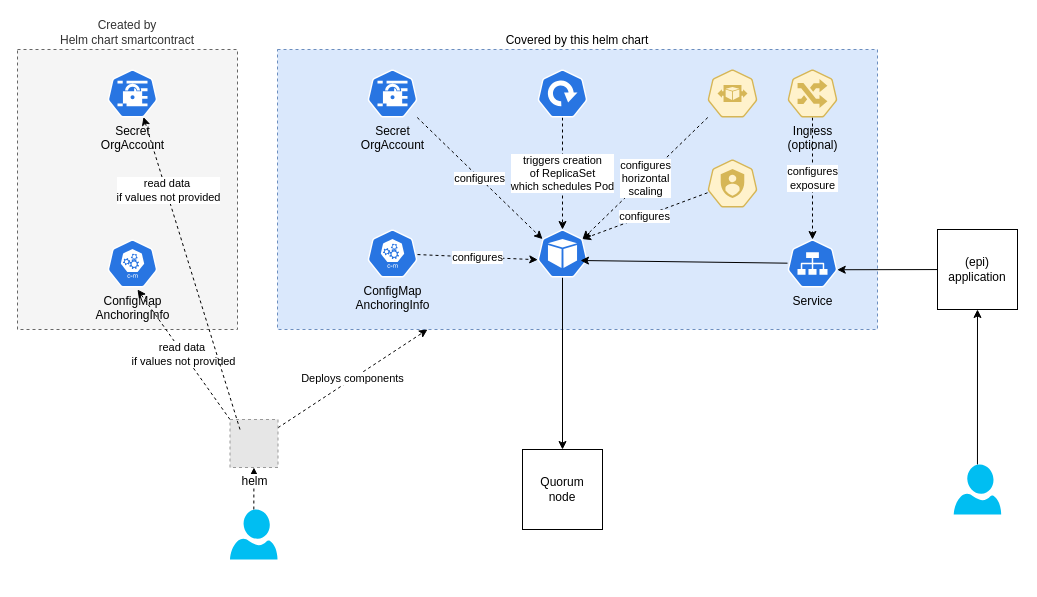
The diagram is 1037 pixels wide and 597 high, and some of its shapes have lost their labels. Grey dashed boxes stand in for pictures. The shapes that lost their labels are listed below. From the top down, each one's centre as x and y in pixels, then its label:
At point (562, 93): "Deployment".
At point (732, 93): "HPA (optional)".
At point (732, 183): "ServiceAccount (optional)".
At point (562, 253): "Pod(s)".
At point (977, 489): "Application user".
At point (253, 534): "User executing helm".
